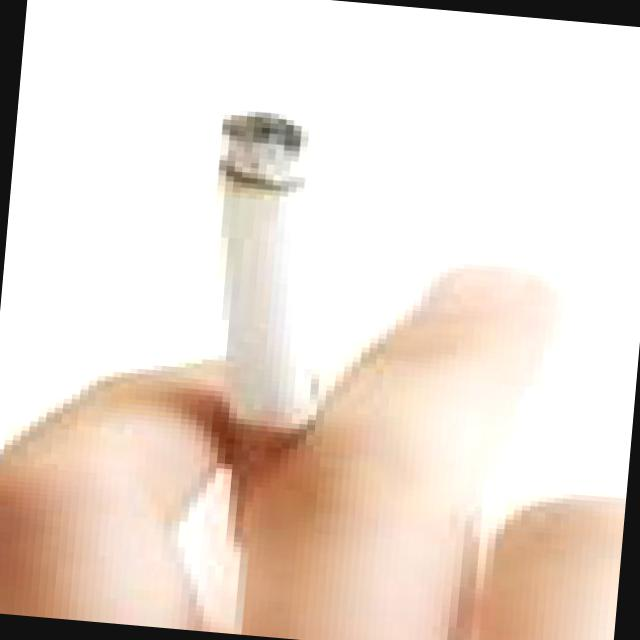smoke: (180, 102, 326, 439)
